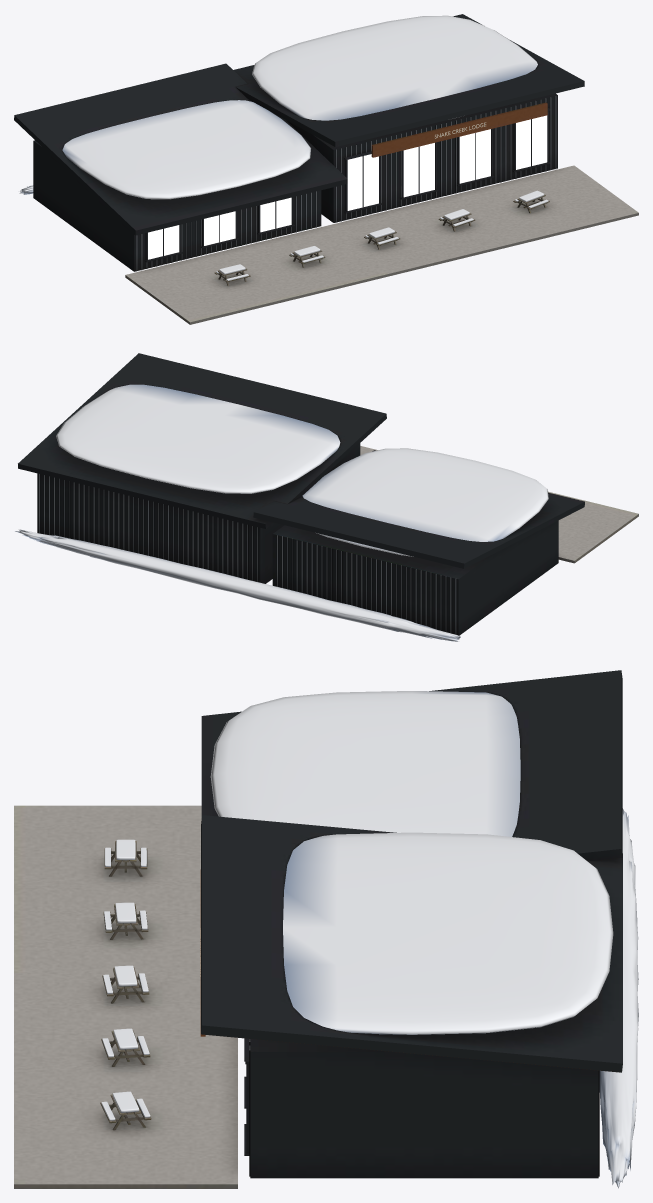
Rendered from snake_creek_lodge.glb.
The picture shows the model from 3 angles, top to bottom: view 1: azimuth 30°, elevation 25°; view 2: azimuth 150°, elevation 25°; view 3: azimuth 270°, elevation 25°; orthographic projection. The views are drawn at different scales.
Parts seen in each view (by area): view 1: snake_creek_lodge, snake_creek_lodge_snow, snake_creek_lodge_lit; view 2: snake_creek_lodge, snake_creek_lodge_snow; view 3: snake_creek_lodge, snake_creek_lodge_snow.
Boxes of the visible parts, x1,y1,x2,y2 form: snake_creek_lodge: (14, 14, 638, 324); snake_creek_lodge_snow: (19, 15, 548, 280); snake_creek_lodge_lit: (148, 115, 547, 259); snake_creek_lodge: (18, 353, 638, 635); snake_creek_lodge_snow: (15, 384, 548, 641); snake_creek_lodge: (14, 670, 622, 1188); snake_creek_lodge_snow: (101, 691, 638, 1188).
Bounding box in the file's own units: 36.41 × 7.55 × 25.12.
Materials: 4 (1 with a texture image).
